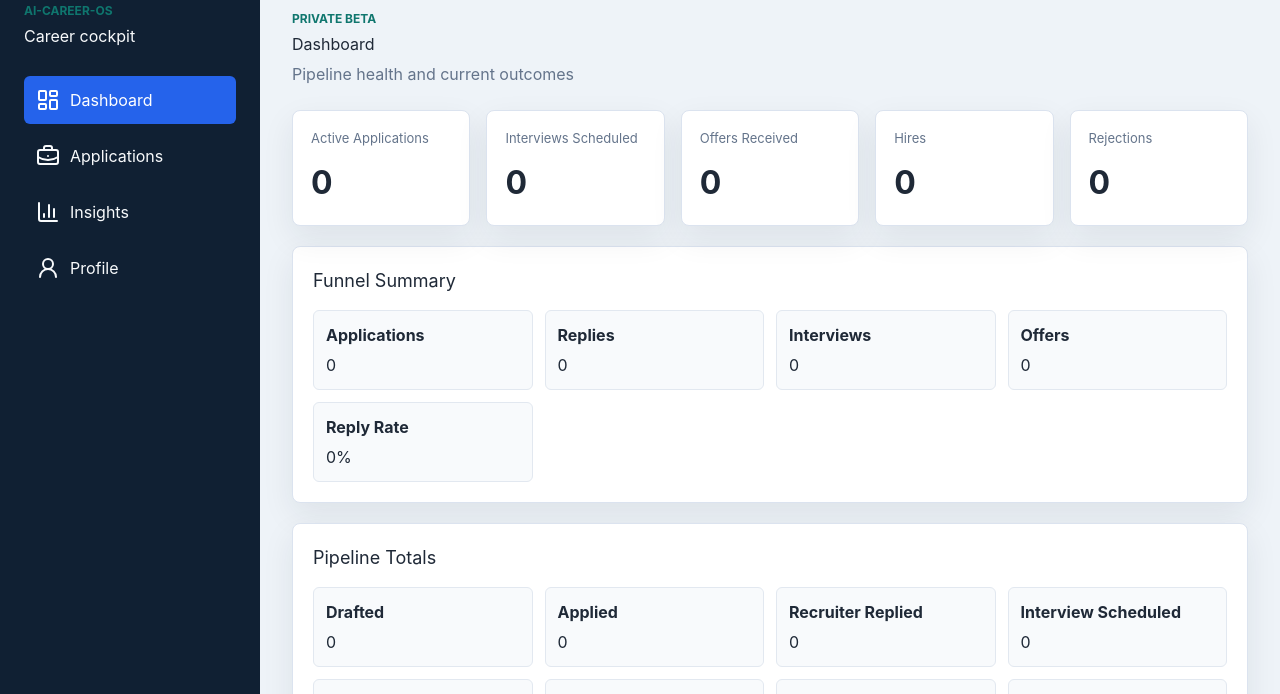
it: App › renders insights from reporting endpoints
The width and height of the screenshot is (1280, 694).
Click the button "Insights": (130, 212) [24,188,236,236]
(page scrolled)
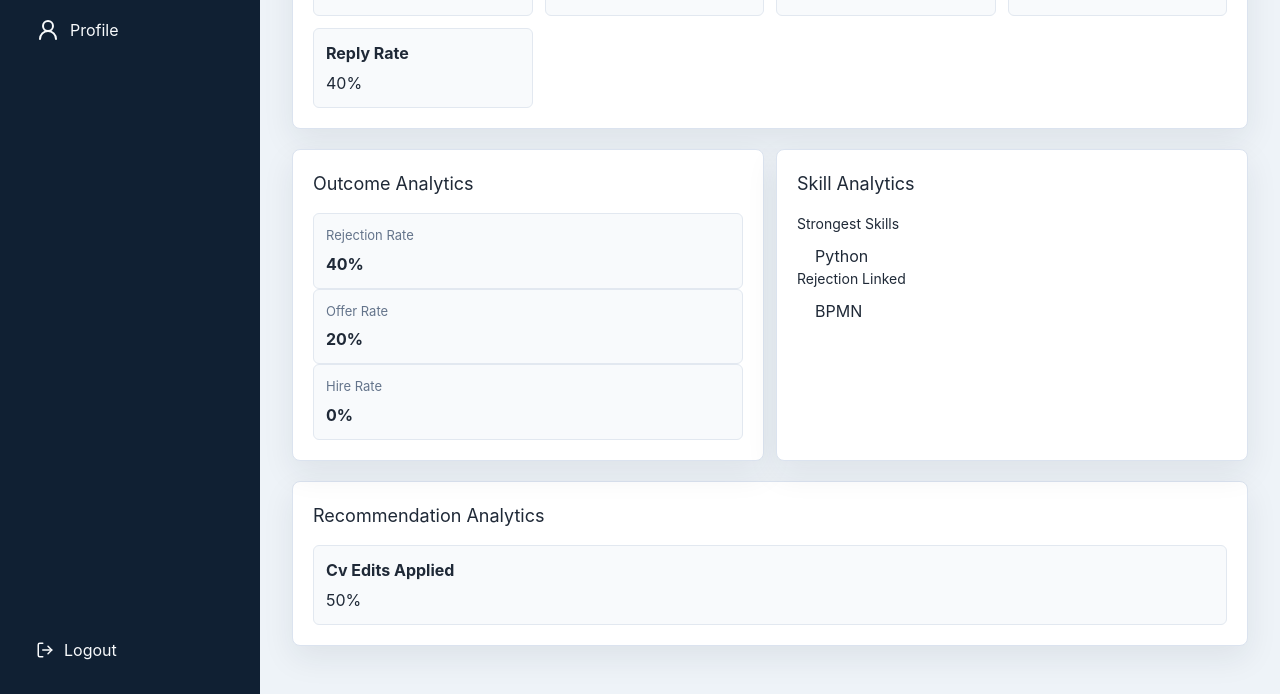
Expected: the heading "Outcome Analytics" is shown, [313,173,474,194]
Expected: the heading "Skill Analytics" is shown, [797,173,915,194]
Expected: the heading "Recommendation Analytics" is shown, [313,504,544,526]
